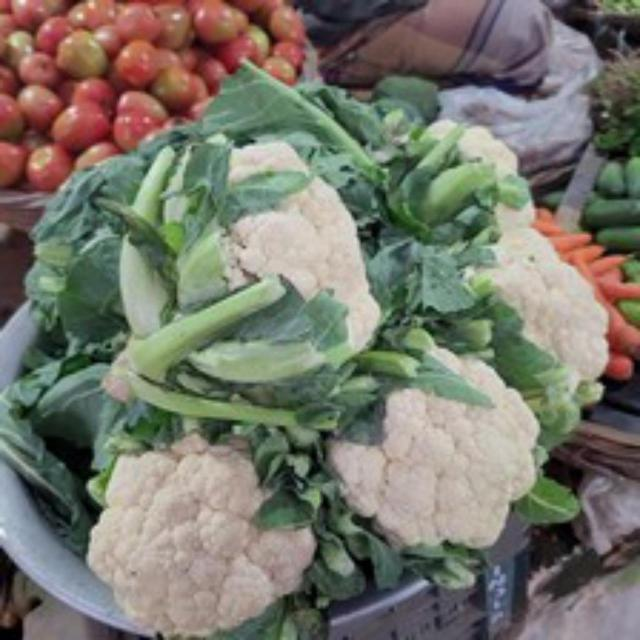cauliflower: (117, 125, 384, 414)
